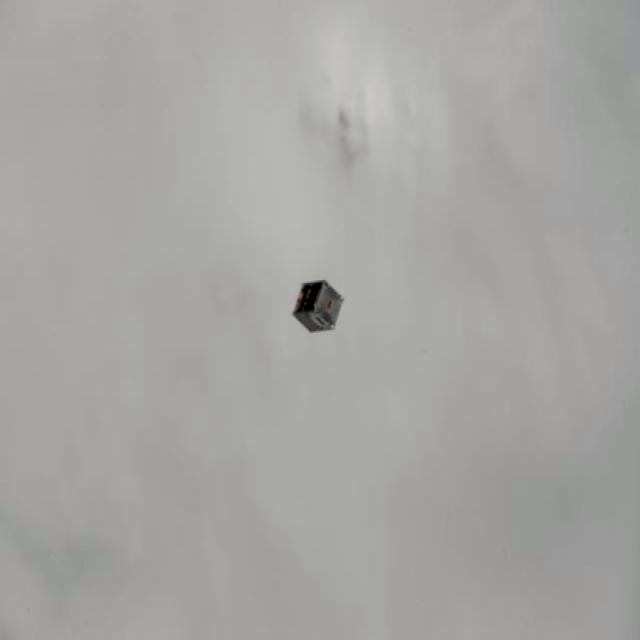medium_debris: (292, 280, 344, 333)
